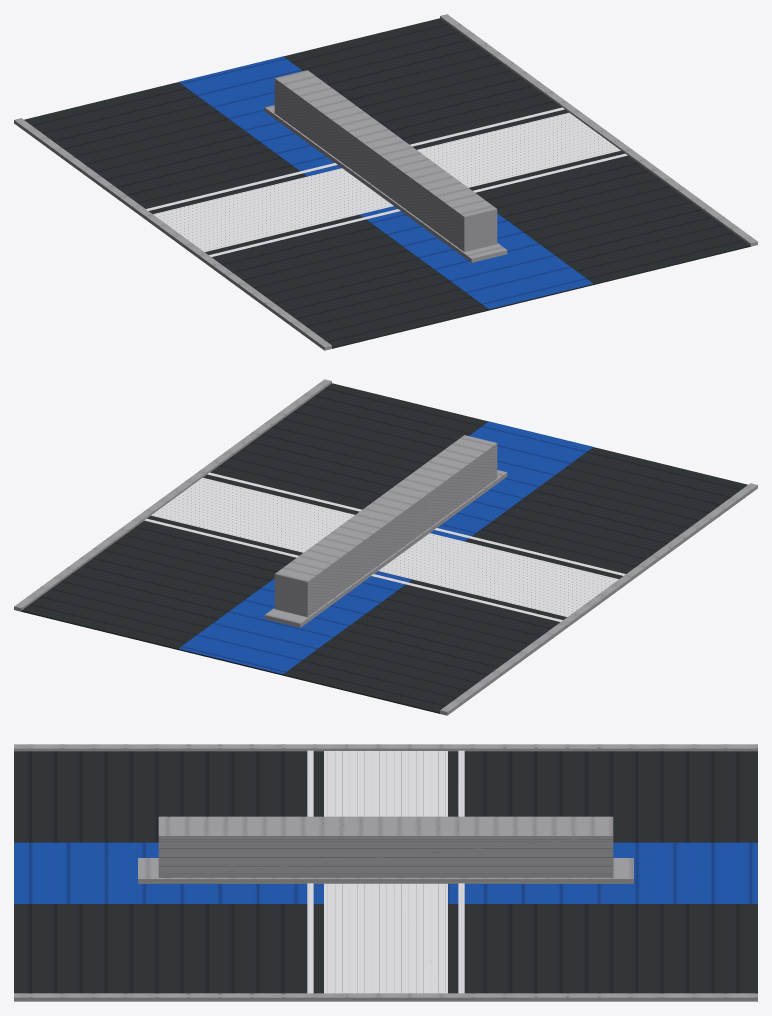
3 views of the same model, one above another, from view 1: azimuth 30°, elevation 25°; view 2: azimuth 150°, elevation 25°; view 3: azimuth 270°, elevation 25° (orthographic). The views are drawn at different scales.
Parts seen in each view (by area): view 1: node_component_11110_04_03188_001_01_asphalt_lanes, node_component_11110_04_03188_001_02_brt_bus_lanes, node_component_11110_04_03188_001_03_crosswalk_curbs; view 2: node_component_11110_04_03188_001_01_asphalt_lanes, node_component_11110_04_03188_001_02_brt_bus_lanes, node_component_11110_04_03188_001_03_crosswalk_curbs; view 3: node_component_11110_04_03188_001_01_asphalt_lanes, node_component_11110_04_03188_001_02_brt_bus_lanes, node_component_11110_04_03188_001_03_crosswalk_curbs.
Boxes of the visible parts, <box> form: node_component_11110_04_03188_001_01_asphalt_lanes: <box>14,14,757,350</box>; node_component_11110_04_03188_001_02_brt_bus_lanes: <box>179,56,593,309</box>; node_component_11110_04_03188_001_03_crosswalk_curbs: <box>146,107,627,256</box>; node_component_11110_04_03188_001_01_asphalt_lanes: <box>14,379,757,715</box>; node_component_11110_04_03188_001_02_brt_bus_lanes: <box>178,421,592,674</box>; node_component_11110_04_03188_001_03_crosswalk_curbs: <box>144,472,625,621</box>; node_component_11110_04_03188_001_01_asphalt_lanes: <box>14,744,757,1001</box>; node_component_11110_04_03188_001_02_brt_bus_lanes: <box>14,816,757,903</box>; node_component_11110_04_03188_001_03_crosswalk_curbs: <box>307,750,464,993</box>.
Size of the model in its own units: 29 by 2.6 by 36.
Materials: 4 (4 with a texture image).
